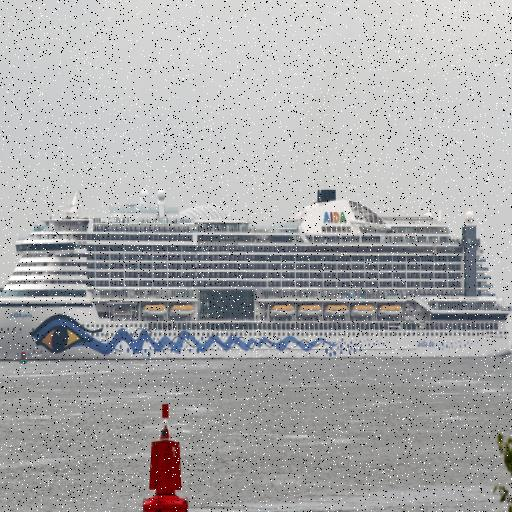cruises: (1, 181, 512, 370)
